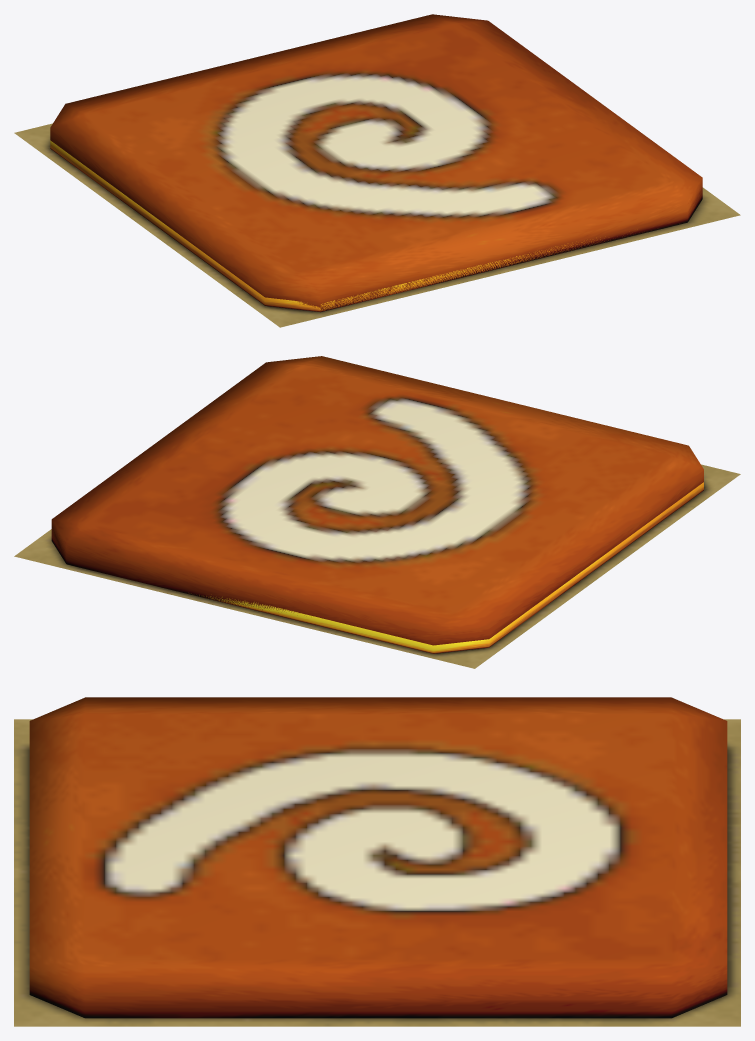
Rendered from C-BoutonJaune.FBX.
The picture shows the model from 3 angles, top to bottom: view 1: azimuth 30°, elevation 25°; view 2: azimuth 150°, elevation 25°; view 3: azimuth 270°, elevation 25°; orthographic projection. The views are drawn at different scales.
Parts seen in each view (by area): view 1: C-BoutonJauneOff, C-BoutonJauneOn; view 2: C-BoutonJauneOff, C-BoutonJauneOn; view 3: C-BoutonJauneOff.
Boxes of the visible parts, x1,y1,x2,y2 form: C-BoutonJauneOff: [14, 14, 740, 327]; C-BoutonJauneOn: [50, 140, 608, 312]; C-BoutonJauneOff: [14, 356, 740, 668]; C-BoutonJauneOn: [189, 482, 703, 653]; C-BoutonJauneOff: [14, 697, 740, 1026].
Size of the model in its own units: 2 by 0.112 by 2.
